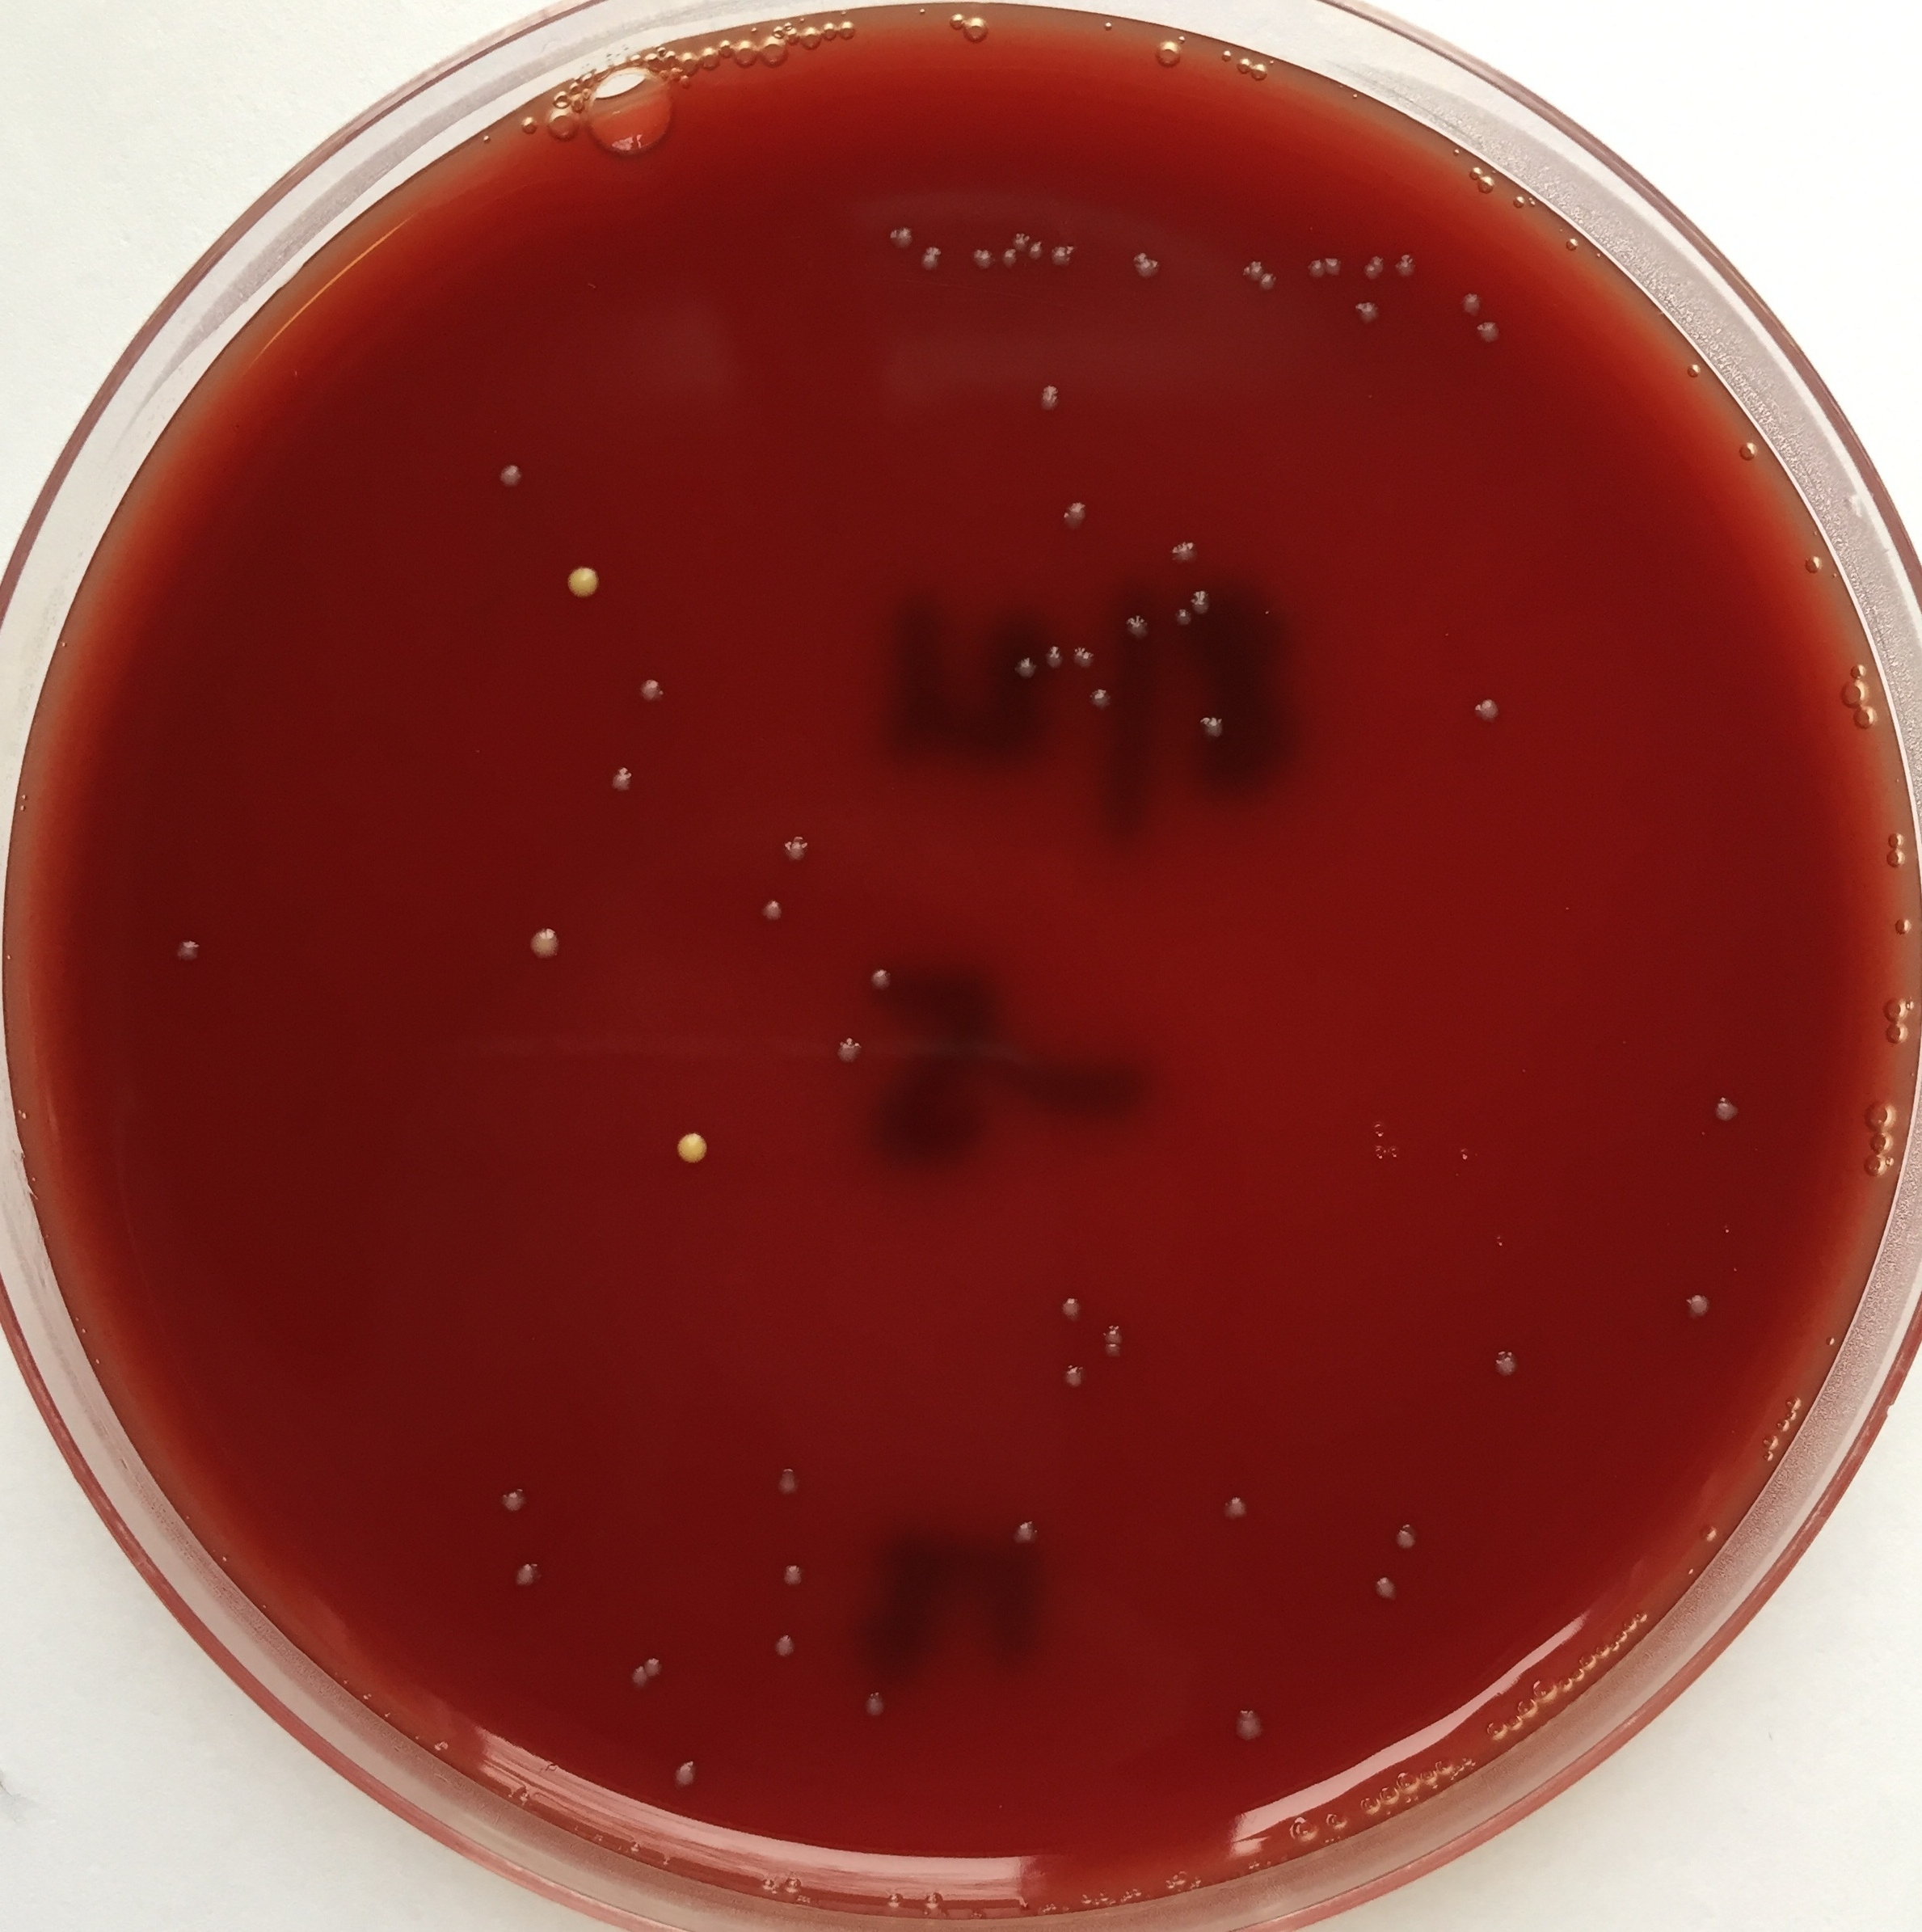sp23: (665, 1117, 718, 1181), (1021, 368, 1079, 419), (1702, 1079, 1751, 1135), (554, 560, 614, 604), (827, 1019, 868, 1077), (525, 915, 565, 973), (1225, 1701, 1274, 1749), (1461, 683, 1505, 735), (486, 449, 532, 498), (774, 825, 817, 876), (505, 1552, 546, 1603), (1679, 1286, 1723, 1330), (495, 1482, 535, 1519), (767, 1462, 806, 1499), (1060, 498, 1097, 535), (1487, 1343, 1522, 1381), (1369, 1570, 1403, 1610), (604, 760, 639, 797), (866, 955, 901, 992), (769, 1628, 801, 1668), (635, 669, 672, 702), (1387, 1520, 1424, 1554), (669, 1751, 699, 1791), (759, 894, 792, 929), (859, 1687, 892, 1723), (1473, 317, 1508, 350), (1197, 707, 1229, 743), (1010, 1511, 1042, 1547), (1068, 642, 1102, 674), (1088, 684, 1119, 718), (1220, 1492, 1253, 1524), (169, 929, 199, 964), (1005, 653, 1040, 683), (1165, 535, 1200, 565), (1390, 245, 1420, 280), (884, 220, 913, 253), (1056, 1284, 1081, 1323), (917, 239, 945, 273), (1051, 238, 1079, 271), (1133, 246, 1160, 282), (1355, 297, 1385, 327), (778, 1561, 806, 1591), (1456, 285, 1486, 313), (1192, 582, 1214, 618), (1060, 1362, 1088, 1390), (1361, 255, 1389, 283), (1044, 642, 1070, 672), (1123, 609, 1149, 637), (968, 243, 993, 271), (625, 1661, 648, 1691), (1100, 1318, 1126, 1341), (1241, 255, 1264, 282), (646, 1649, 667, 1677), (1304, 255, 1327, 278), (1258, 271, 1280, 296), (1325, 252, 1345, 278), (1176, 604, 1193, 632), (1010, 229, 1033, 250), (1105, 1341, 1125, 1364), (1001, 248, 1019, 273), (1030, 239, 1047, 262)
